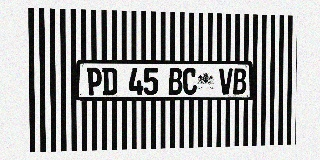4: (129, 68, 143, 95)
5: (144, 68, 158, 95)
B: (168, 68, 182, 95), (233, 68, 246, 94)
C: (183, 68, 197, 95)
D: (102, 68, 117, 95)
P: (87, 68, 102, 95)
V: (219, 68, 233, 95)
